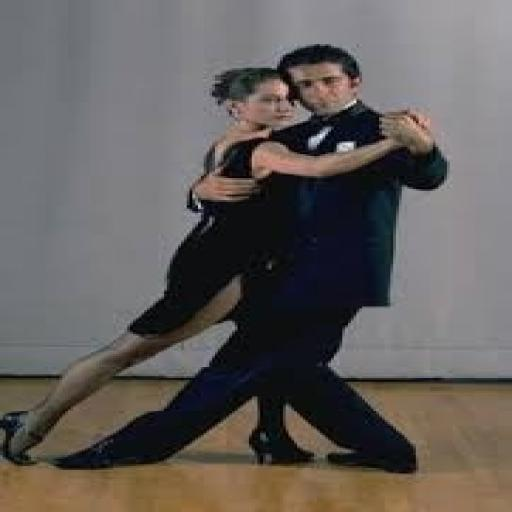dancing: (0, 40, 465, 511)
